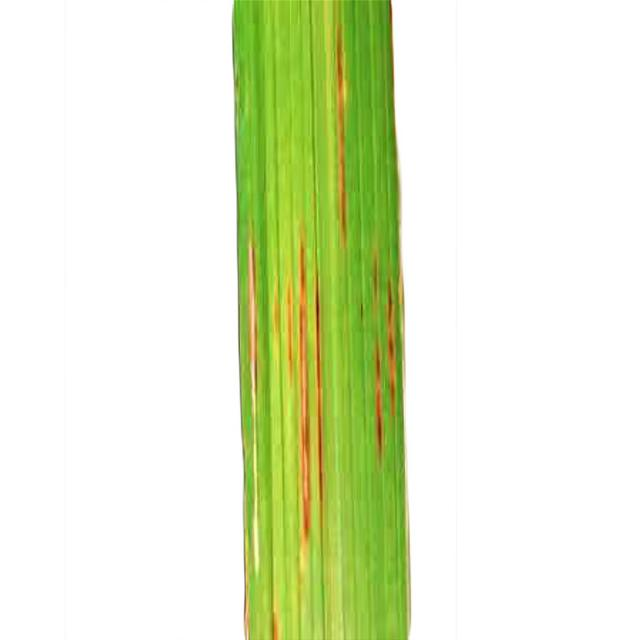Narrow brown: (202, 0, 460, 640)
